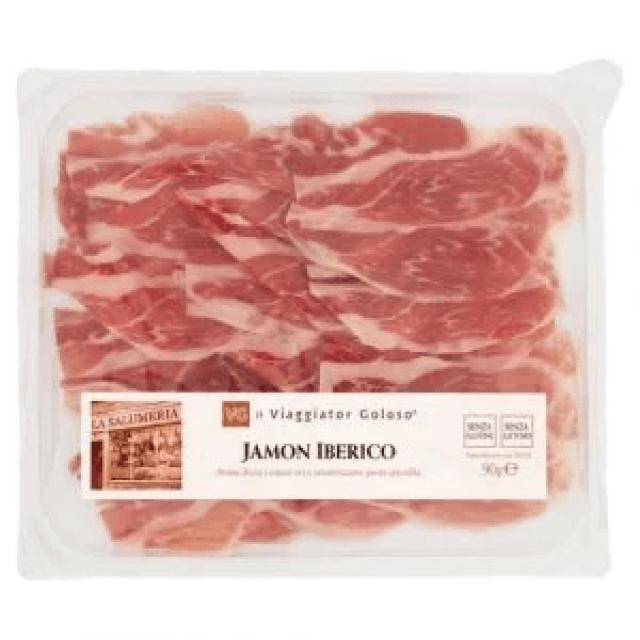ham: (19, 60, 623, 582)
